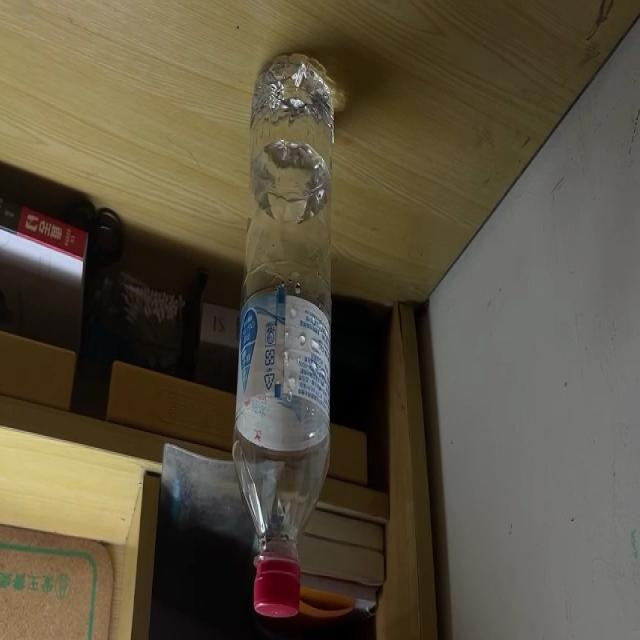Water: (232, 51, 334, 619)
